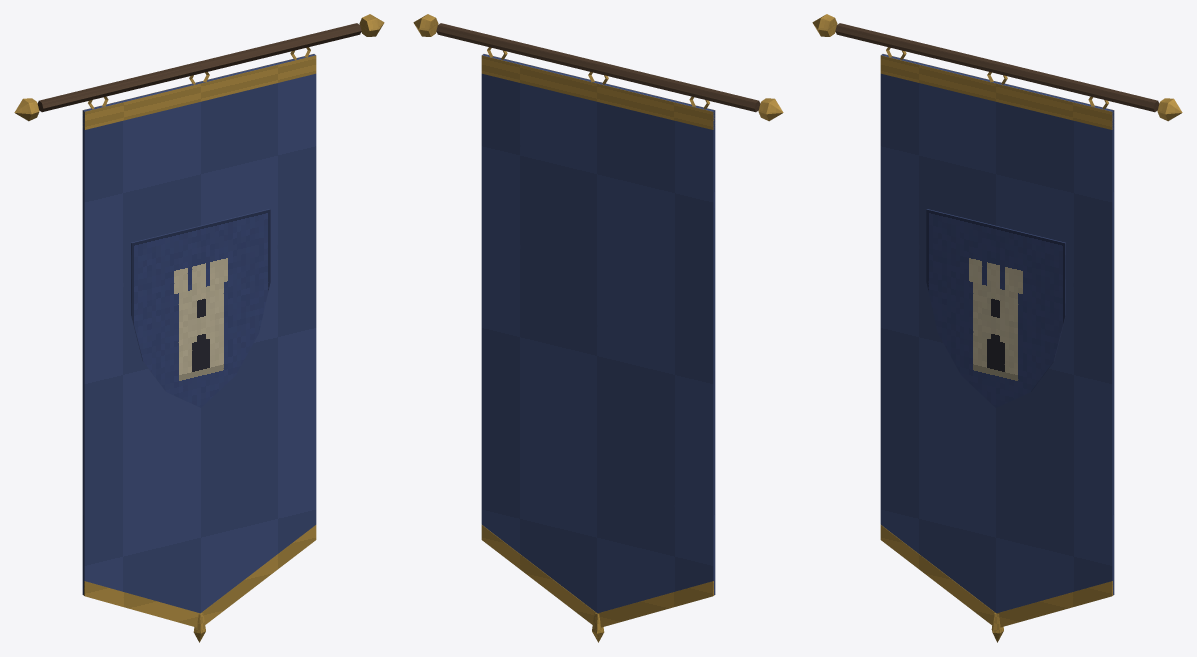
The model's file is heraldic-banner-b.glb.
3 renders of one model, left to right at view 1: azimuth 30°, elevation 25°; view 2: azimuth 150°, elevation 25°; view 3: azimuth 330°, elevation 25°, orthographic.
Parts seen in each view (by area): view 1: heraldic-banner-b.001; view 2: heraldic-banner-b.001; view 3: heraldic-banner-b.001.
Boxes of the visible parts, x1,y1,x2,y2 form: heraldic-banner-b.001: (14,14,384,642); heraldic-banner-b.001: (413,14,783,642); heraldic-banner-b.001: (812,14,1182,642).
Bounding box in the file's own units: 1.28 × 1.93 × 0.07.
Materials: 1 (1 with a texture image).
